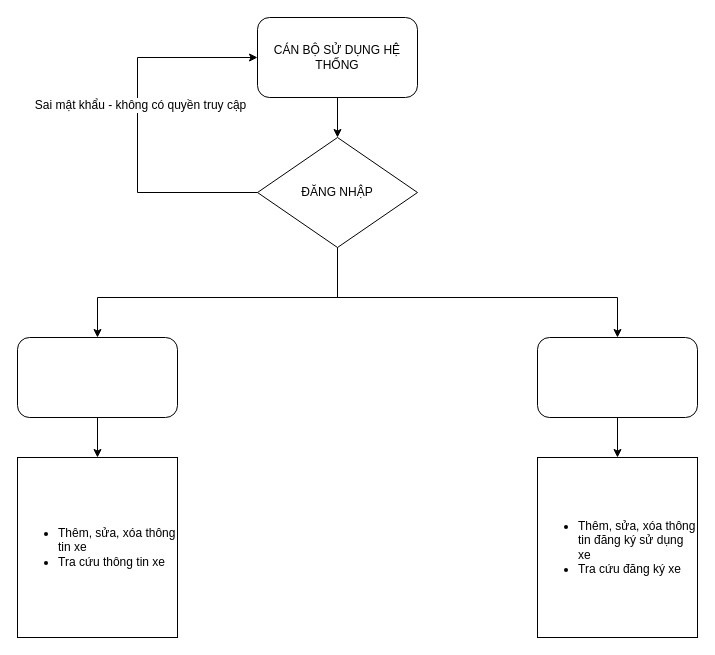
Some shapes in this 715 by 655 pixel diagram are drawn without their labels. The shapes that lost their labels are listed below. From the top down, each one's box as (x1, y1, x2, y2) in pixels, then its label:
(16, 336, 178, 418): QUẢN LÝ XE
(536, 336, 698, 418): QUẢN LÝ ĐĂNG KÝ XE
